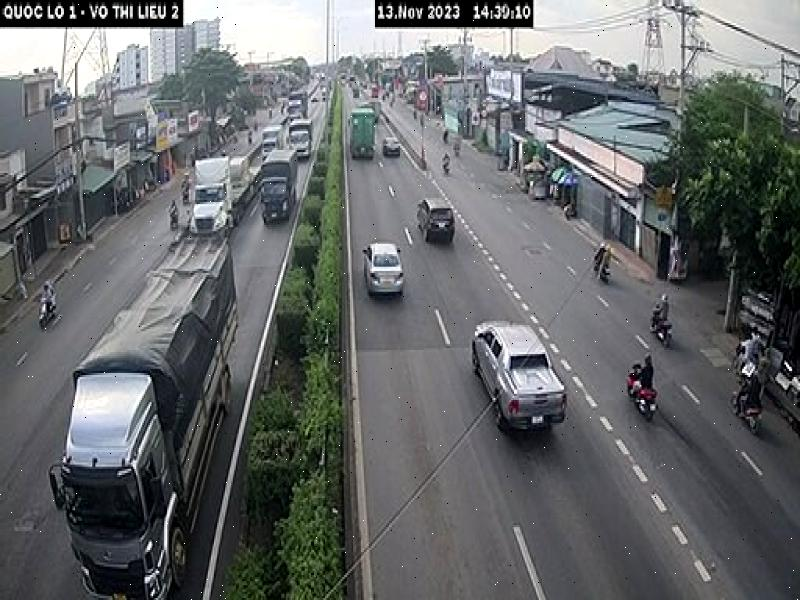truck: (50, 233, 239, 600), (259, 146, 300, 229)
